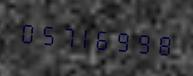eight: (157, 25, 176, 62)
five: (37, 14, 56, 52)
nine: (117, 21, 136, 59), (137, 23, 156, 61)
one: (77, 18, 96, 55)
seven: (57, 16, 76, 54)
six: (97, 20, 116, 57)
zero: (17, 13, 36, 50)
